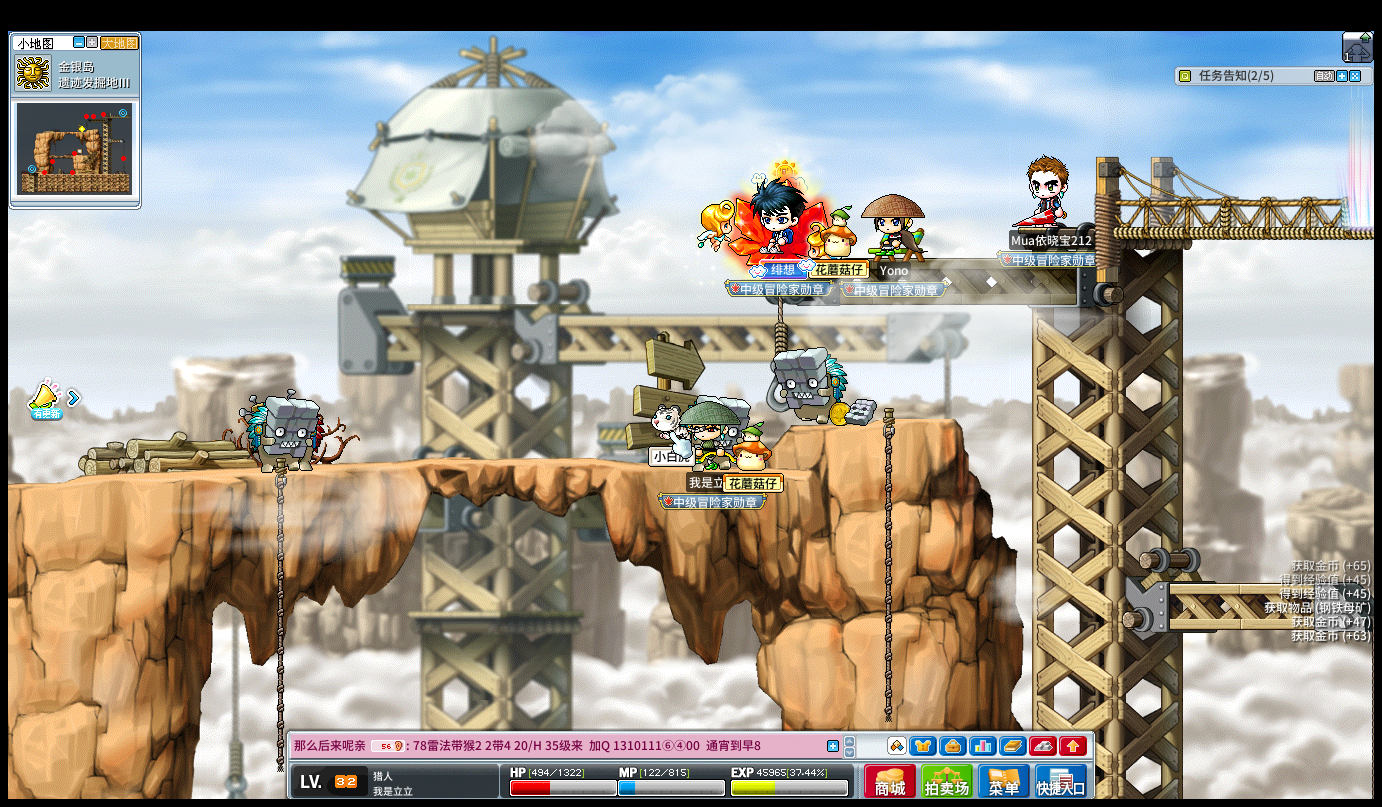floor: (17, 455, 856, 485), (50, 455, 843, 477), (1168, 580, 1372, 593), (790, 416, 957, 431)
monster: (770, 346, 847, 428), (245, 396, 321, 473)
rope: (271, 455, 287, 807), (880, 407, 895, 722), (273, 460, 287, 755), (881, 613, 894, 718)
